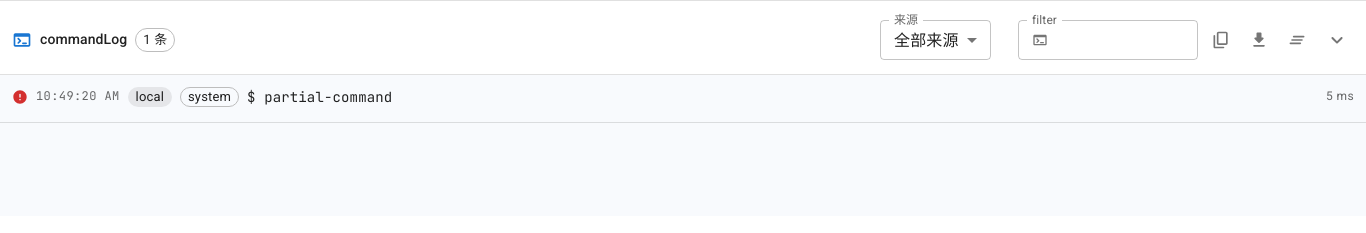
Test: command details › shows stderr alongside stdout so partial success does not hide the failure
Click the text "$ partial-command" at (320, 97), box top-left (247, 88), bottom-right (392, 106)
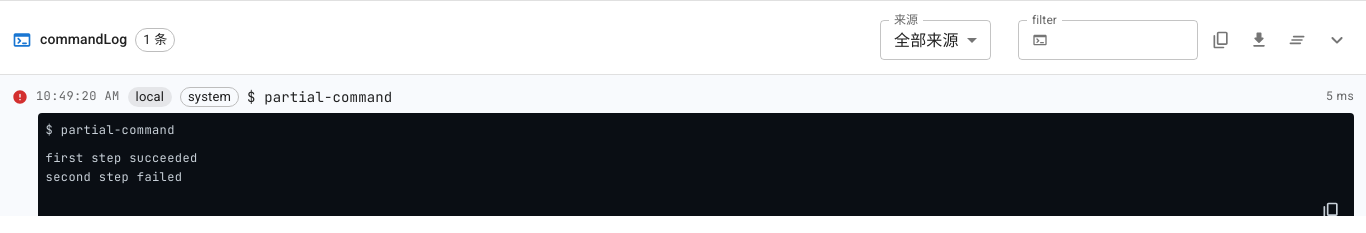
Now the text "first step succeeded second step failed" is shown, box top-left (46, 150), bottom-right (198, 185)
